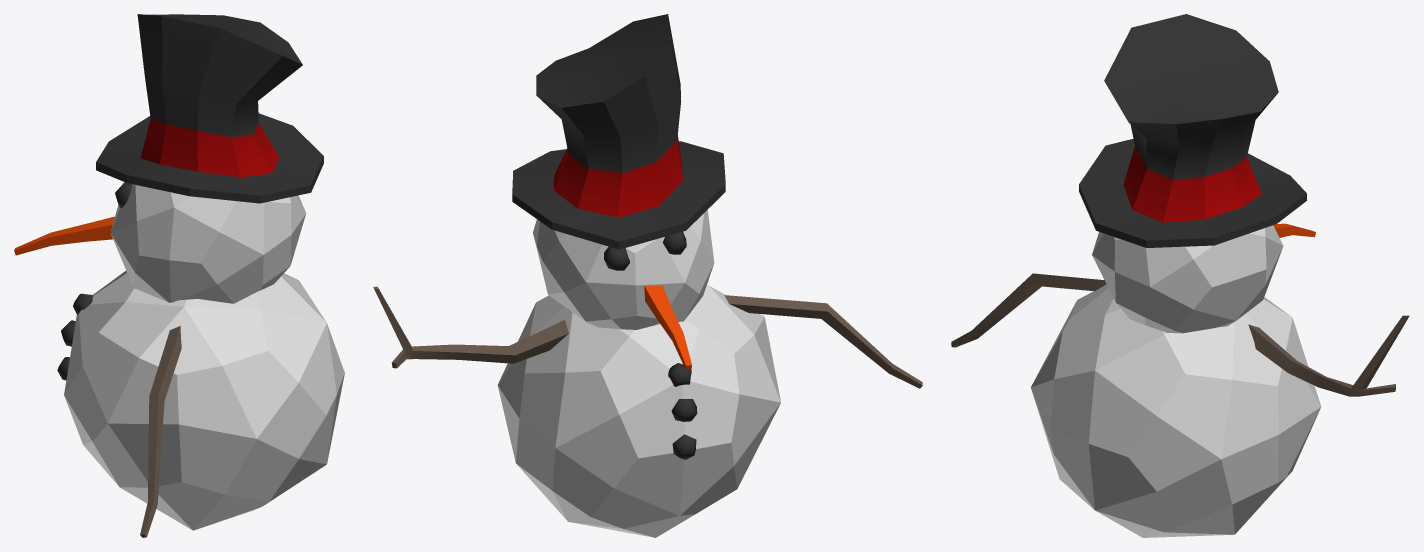
File: SnowMan.fbx
3 views of the same model, side by side, from view 1: azimuth 30°, elevation 25°; view 2: azimuth 150°, elevation 25°; view 3: azimuth 270°, elevation 25° (orthographic).
Visible parts, largest first — view 1: SnowMan; view 2: SnowMan; view 3: SnowMan.
Part boxes in pixels (box(x1,y1,x2,y2)): SnowMan: box(14, 14, 344, 537); SnowMan: box(373, 14, 922, 537); SnowMan: box(951, 14, 1409, 537).
Bounding box in the file's own units: 1.68 × 2.44 × 2.06.
